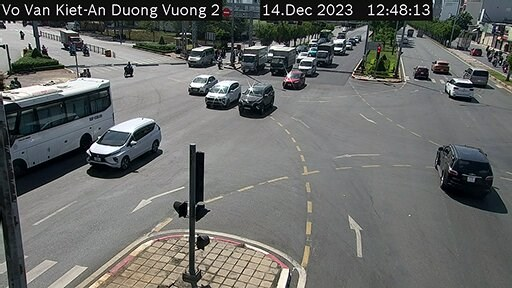car: (4, 79, 116, 179), (434, 140, 490, 196), (209, 78, 238, 111), (244, 84, 270, 117), (300, 57, 327, 86), (450, 75, 475, 101), (190, 74, 213, 102), (468, 64, 490, 88), (192, 46, 216, 67), (433, 59, 452, 80), (410, 65, 427, 88), (285, 66, 300, 92), (328, 39, 347, 55)
motorbike: (99, 120, 158, 167), (122, 60, 133, 77)
truck: (273, 46, 299, 76), (245, 45, 268, 77), (316, 45, 334, 68), (61, 27, 81, 46)
